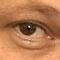eye: (20, 23, 36, 36)
